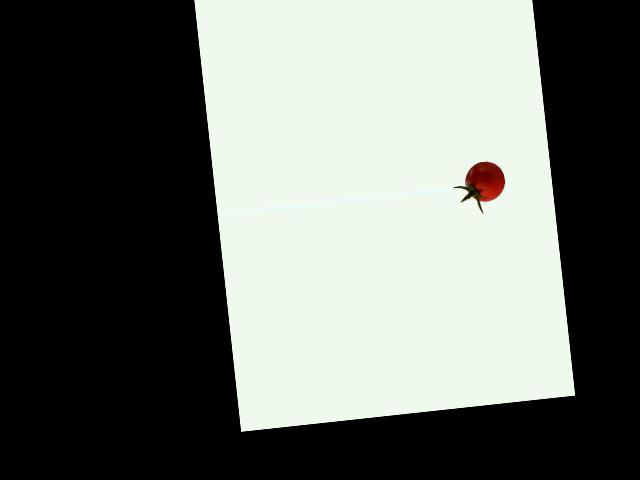tomato: (463, 159, 507, 202)
